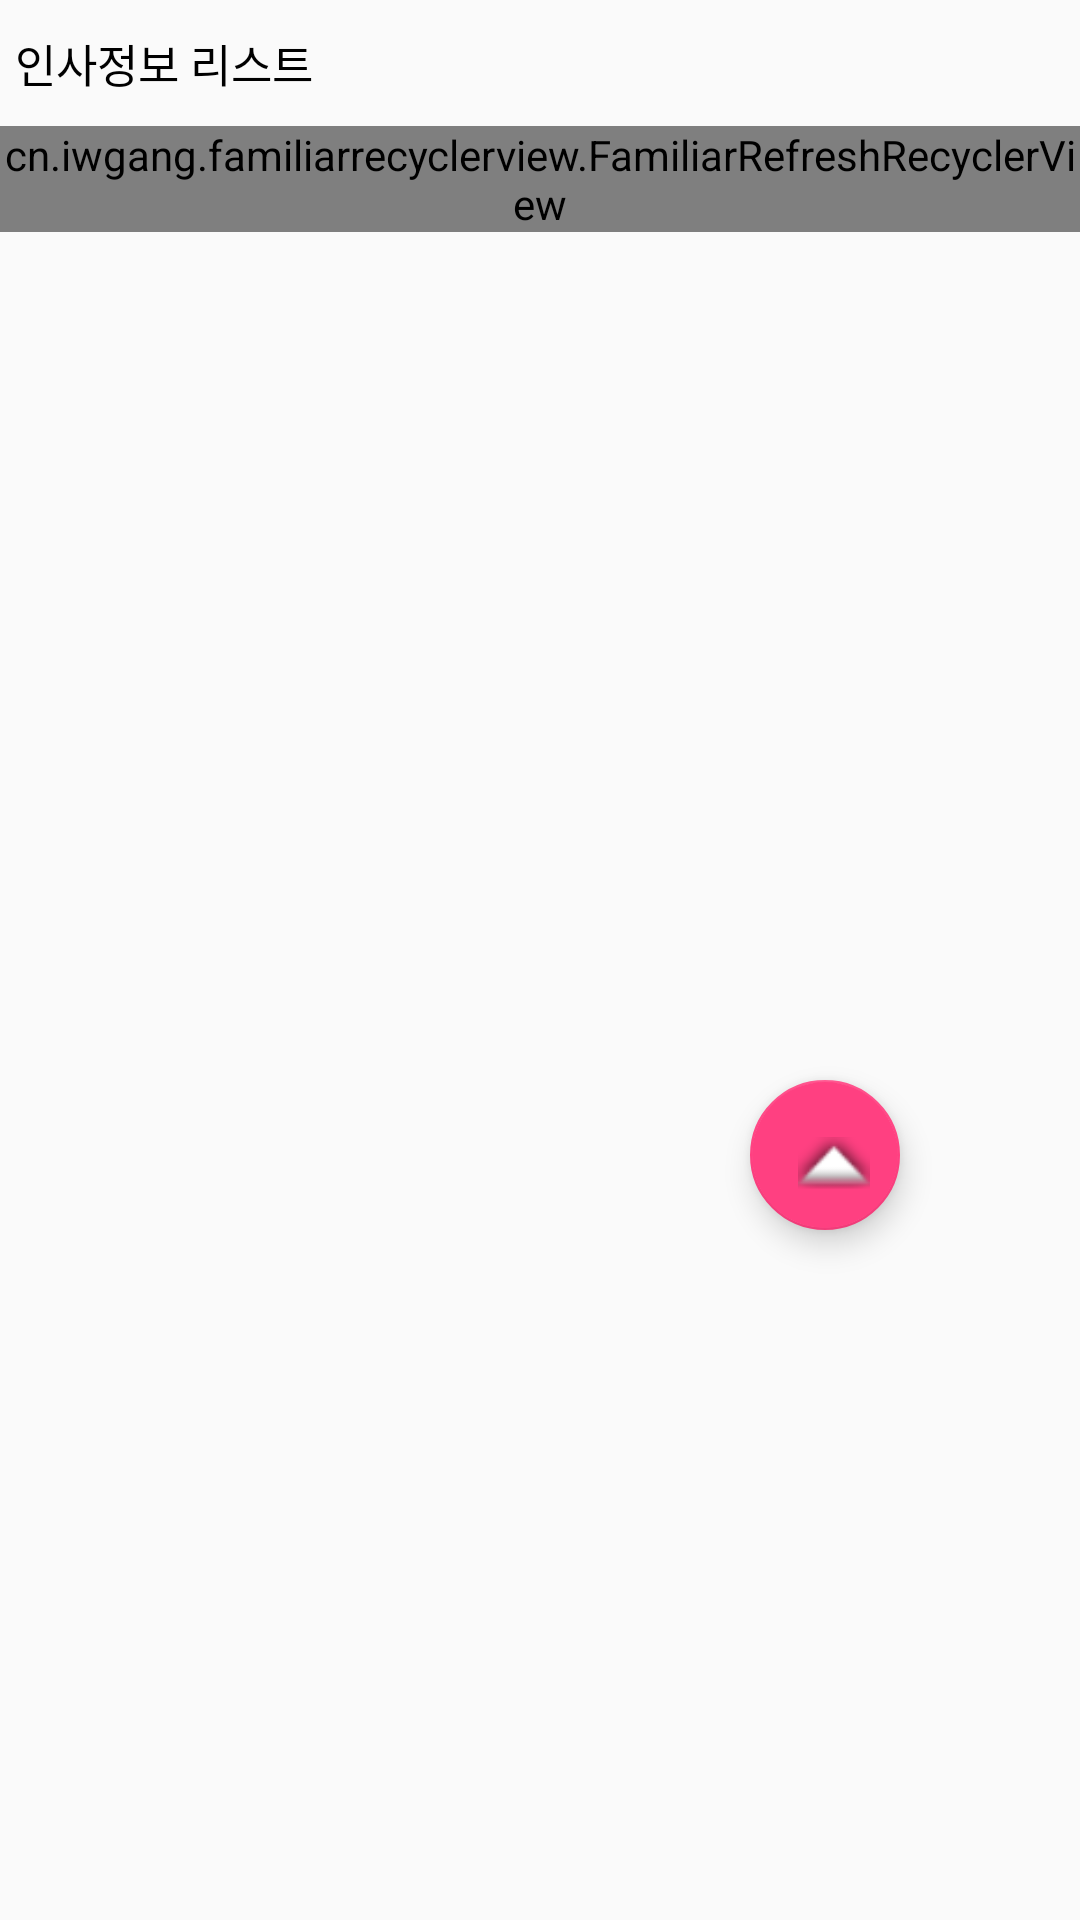

Point at icon controls on the screen. Image size 1080*1920, points as (x,y).
arrow up float: (825,1155)
